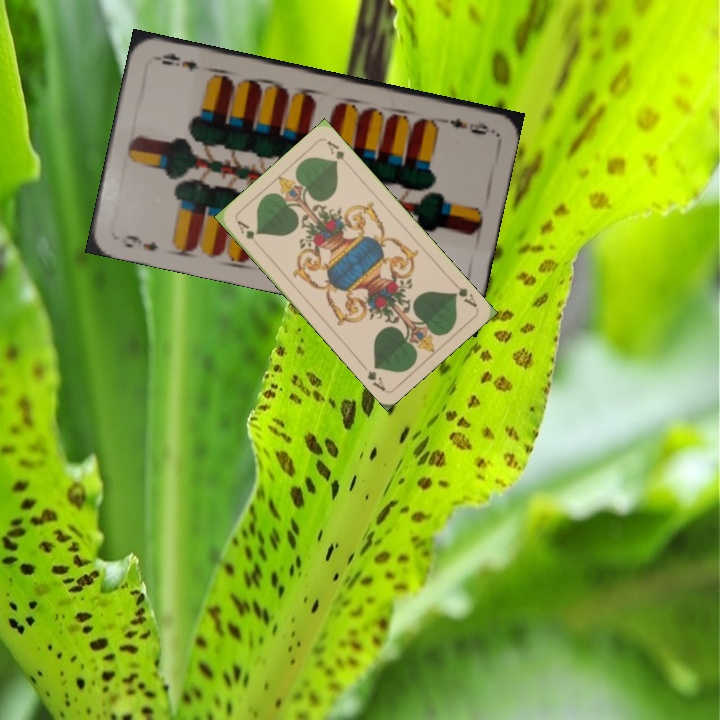E9: (435, 114, 492, 138), (117, 231, 161, 254)
GA: (448, 277, 479, 310), (233, 216, 262, 250)
